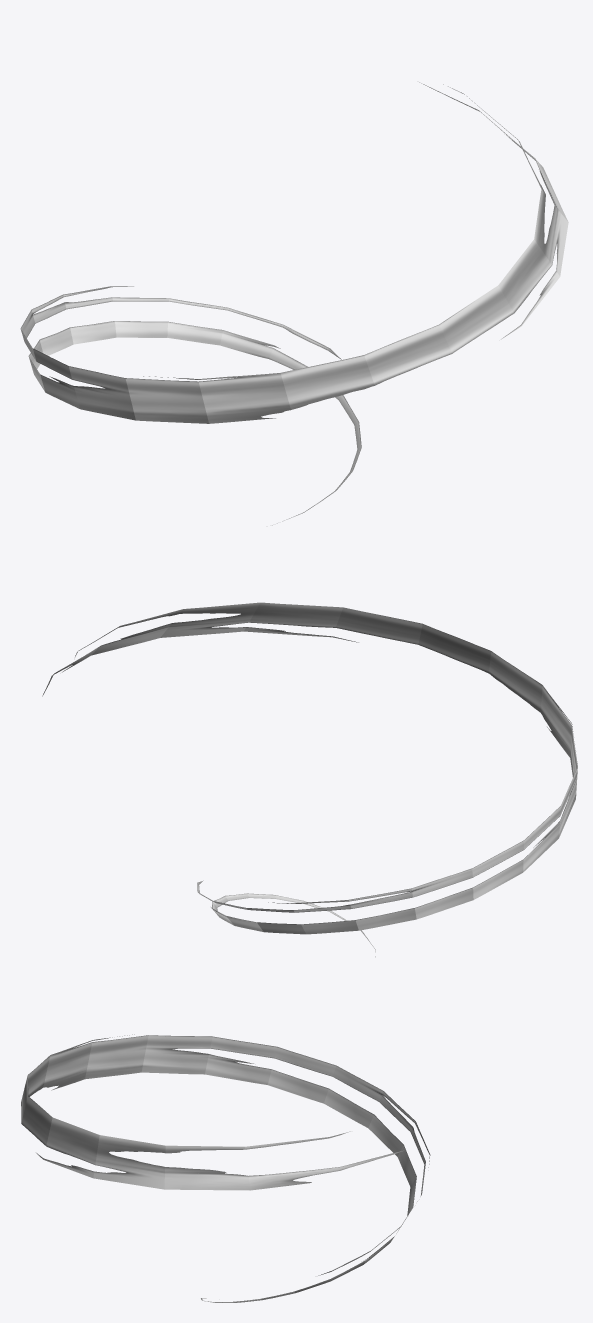
3 views of the same model, one above another, from view 1: azimuth 30°, elevation 25°; view 2: azimuth 150°, elevation 25°; view 3: azimuth 270°, elevation 25° (orthographic). The views are drawn at different scales.
Parts seen in each view (by area): view 1: Helix001; view 2: Helix001; view 3: Helix001.
Part boxes in pixels (<box>): Helix001: <box>20,82,568,525</box>; Helix001: <box>42,602,577,957</box>; Helix001: <box>21,1034,430,1302</box>.
Bounding box in the file's own units: 44.5 × 31.82 × 50.25.
Materials: 1 (1 with a texture image).
